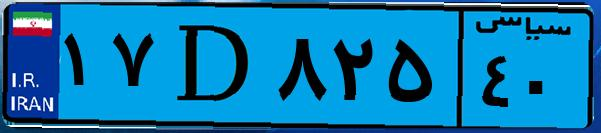0: (525, 38, 570, 115)
1: (57, 26, 110, 100)
2: (330, 28, 385, 110)
4: (475, 38, 525, 113)
5: (385, 28, 445, 110)
7: (110, 28, 158, 98)
8: (270, 28, 330, 110)
D: (158, 12, 270, 120)
